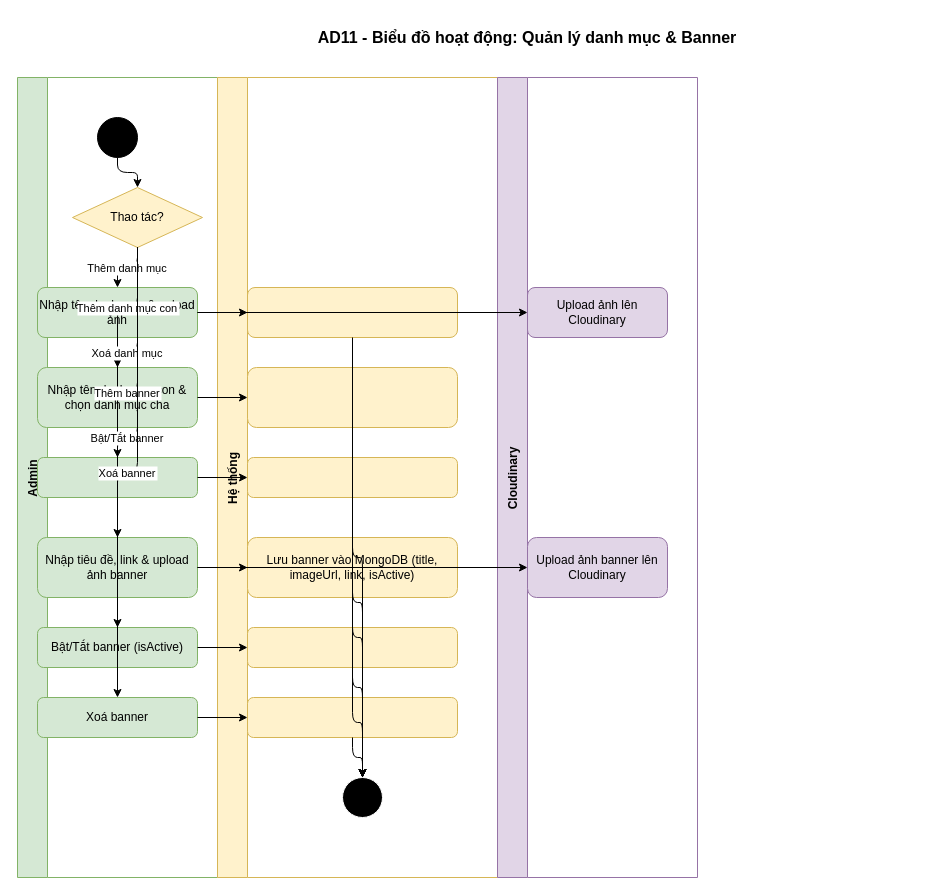
Image size: 945x895. Some labels were removed from this diagram. The box of each missing label's shape, as (x1, y1, x2, y2) in pixels:
Cập nhật isActive trong MongoDB: (246, 626, 458, 668)
Lưu danh mục vào MongoDB (name, image): (246, 286, 458, 338)
Lưu subCategory vào MongoDB (name, category): (246, 366, 458, 428)
Xoá banner khỏi MongoDB: (246, 696, 458, 738)
Xoá danh mục / danh mục con: (36, 456, 198, 498)
Xoá khỏi MongoDB, ghi Audit Log: (246, 456, 458, 498)
